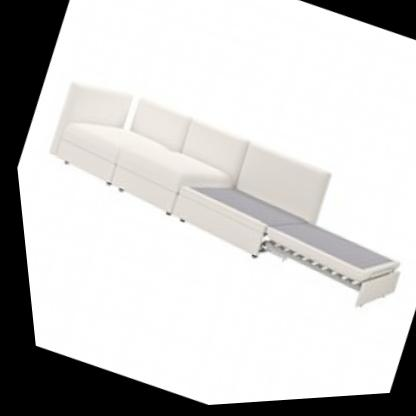Sofa: (5, 38, 416, 358)
